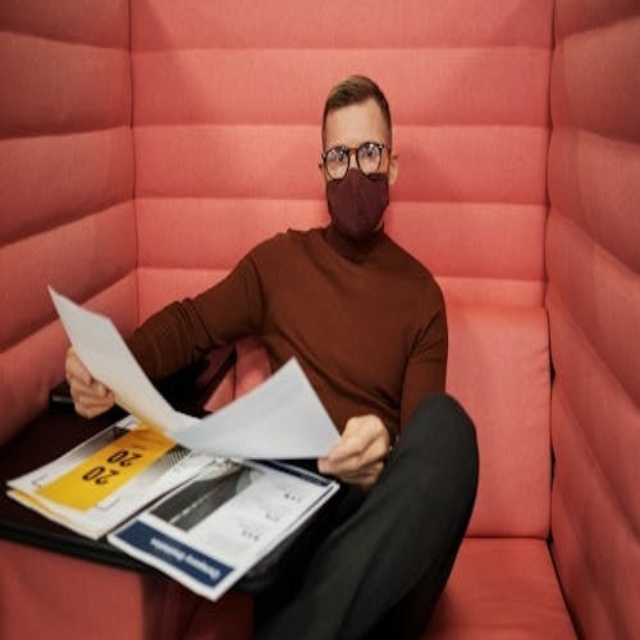Gafas: (320, 141, 393, 179)
Mascara: (326, 167, 390, 240)
Sin_guantes: (319, 412, 391, 486), (65, 344, 114, 419)
